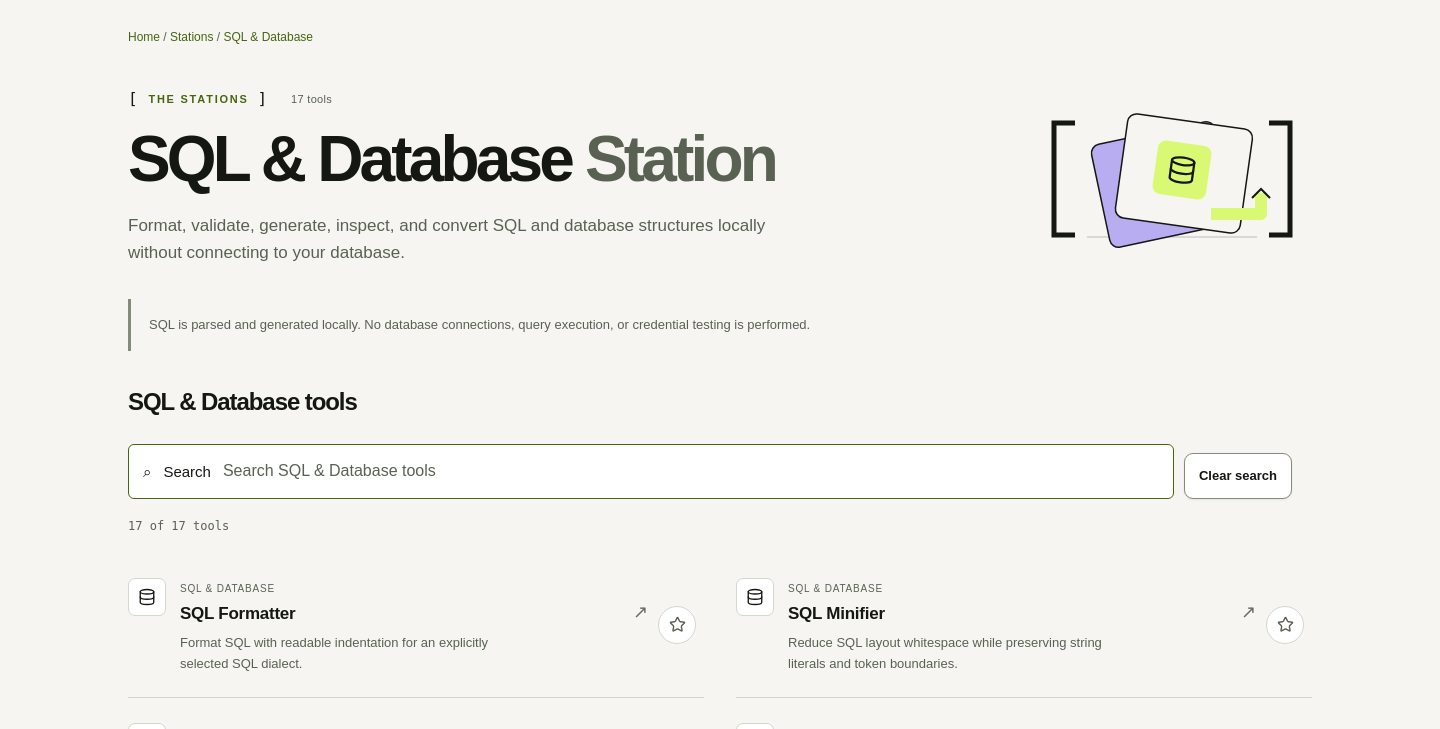
SQL contracts, registry and public discovery › landing search is local, searchable by keyboard, with cards and no-result feedback
This screenshot has width=1440, height=729.
expect the heading "SQL & Database Station" is shown: met, box top-left (128, 126), bottom-right (778, 192)
expect the message reads "17 of 17 tools": met, box top-left (128, 519), bottom-right (229, 533)
Type keys "Formatter"
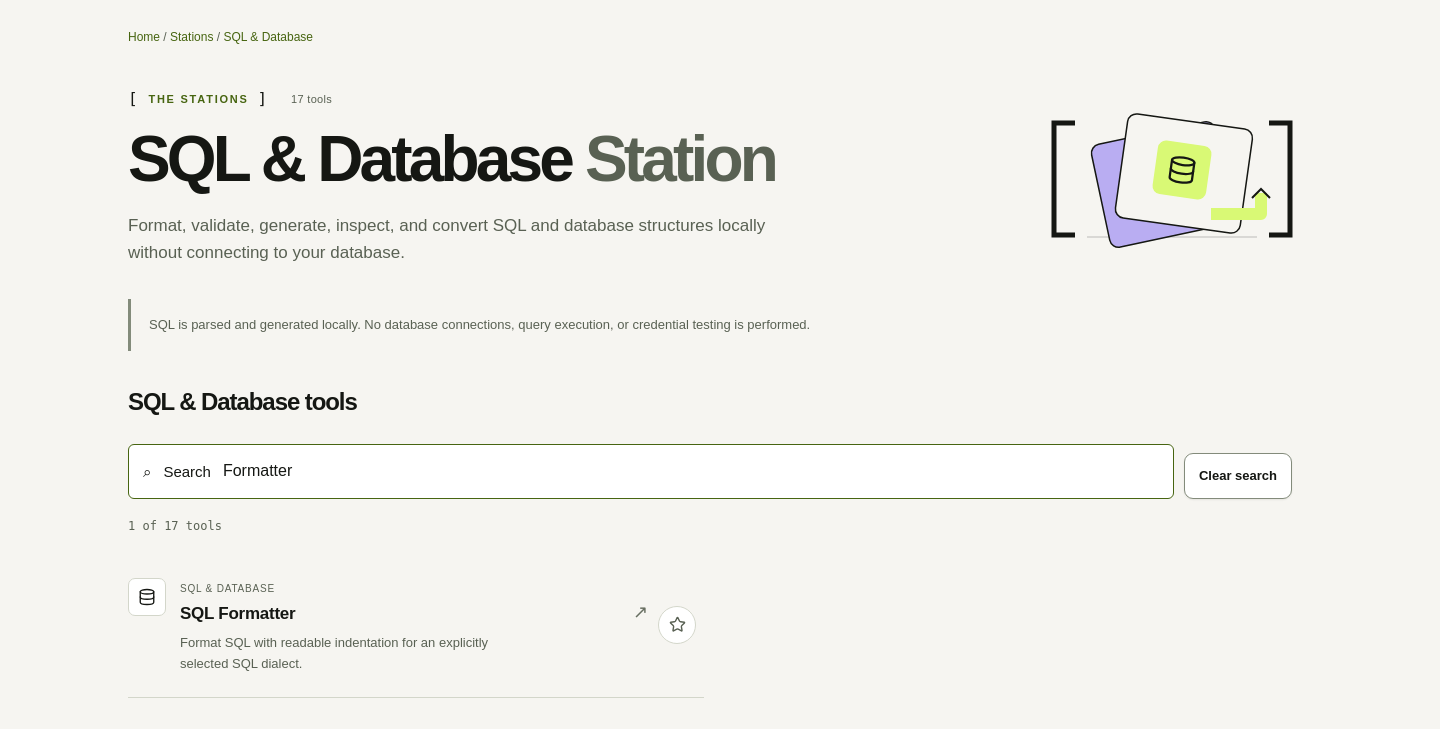
expect the message reads "1 of 17 tools": met, box top-left (128, 519), bottom-right (222, 533)
Replace the text in the field named "Search SQL & Database tools" with "no-match-private-fixture" at (691, 472), box top-left (223, 452), bottom-right (1159, 491)
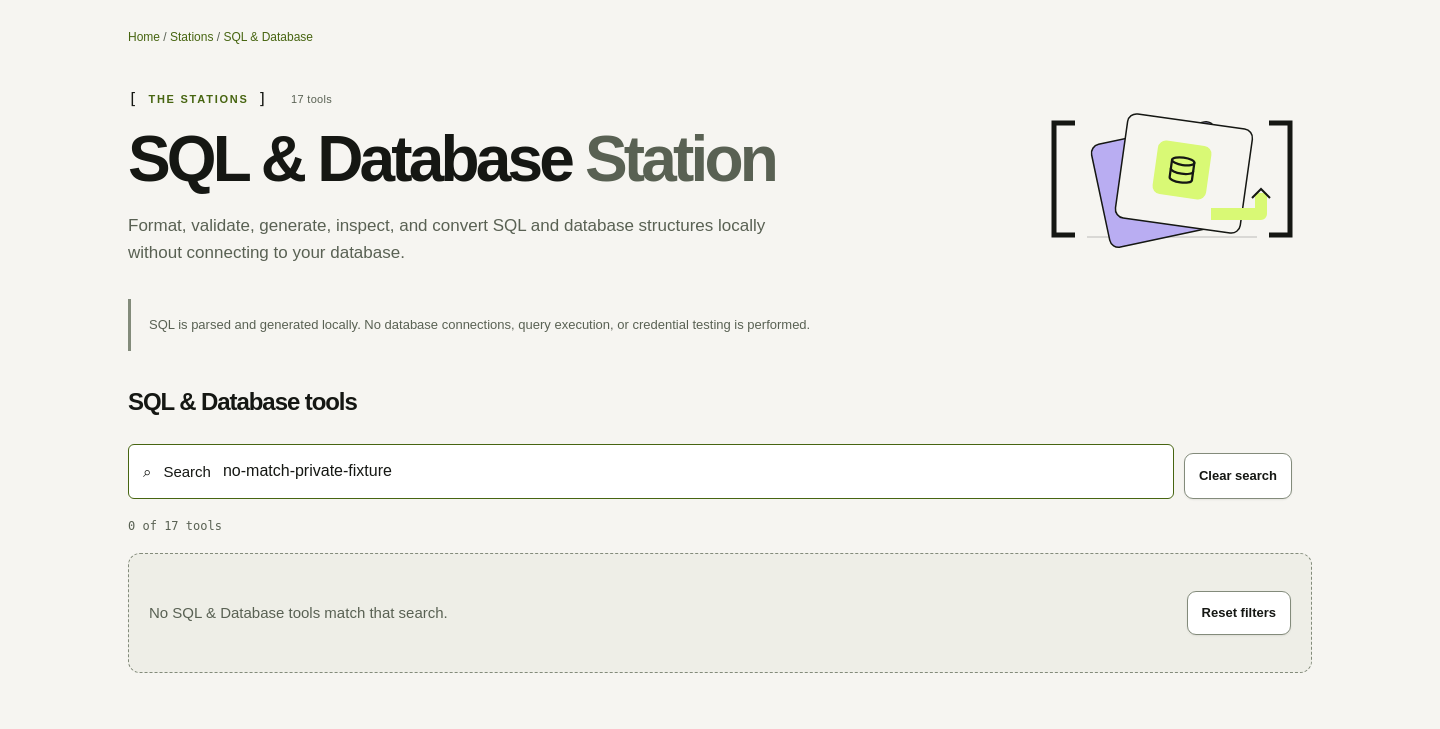
expect the text "No SQL & Database tools match that search." is shown: met, box top-left (149, 601), bottom-right (448, 625)
